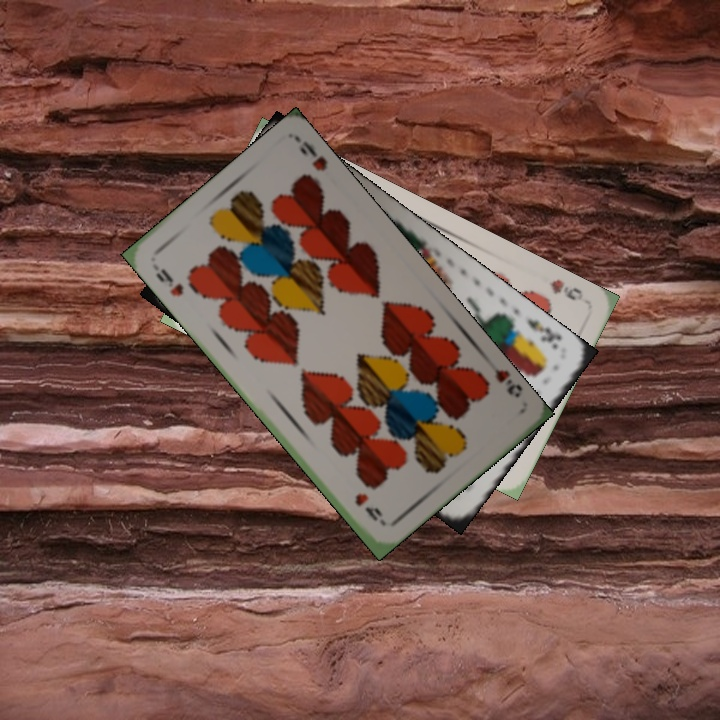EK: (522, 314, 564, 352)
H9: (490, 365, 525, 401), (151, 264, 186, 299), (544, 274, 586, 303)
